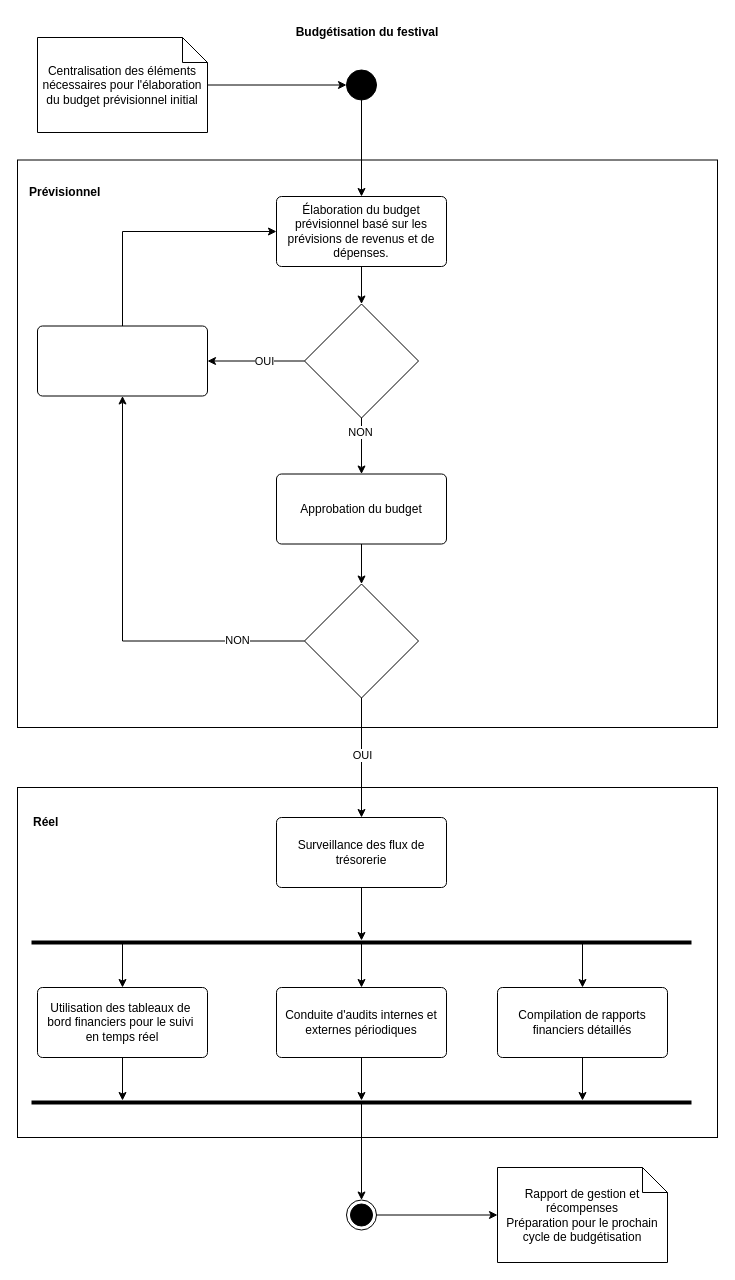
The diagram is 735 pixels wide and 1280 high, and some of its shapes have lost their labels. Here are the shapes that lost their labels. From the top down, the box of each, then its label:
(36, 325, 208, 396): Révision du budget
(304, 303, 418, 418): Révision nécessaire ?
(304, 583, 418, 698): Budget approuvé ?
